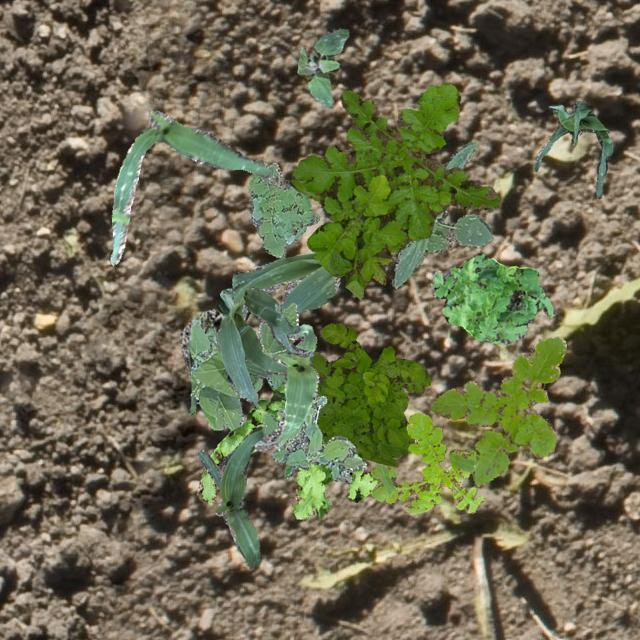crop: (110, 110, 270, 264), (188, 302, 298, 429), (214, 286, 310, 406), (197, 426, 264, 568), (254, 322, 318, 450), (534, 100, 612, 198), (230, 252, 338, 314), (178, 288, 250, 378)
weed: (288, 82, 500, 298), (195, 382, 378, 518), (430, 334, 566, 486), (310, 322, 430, 466), (391, 140, 492, 288), (429, 252, 554, 344), (371, 412, 484, 512), (262, 389, 366, 484), (248, 158, 318, 258), (296, 26, 348, 106)
